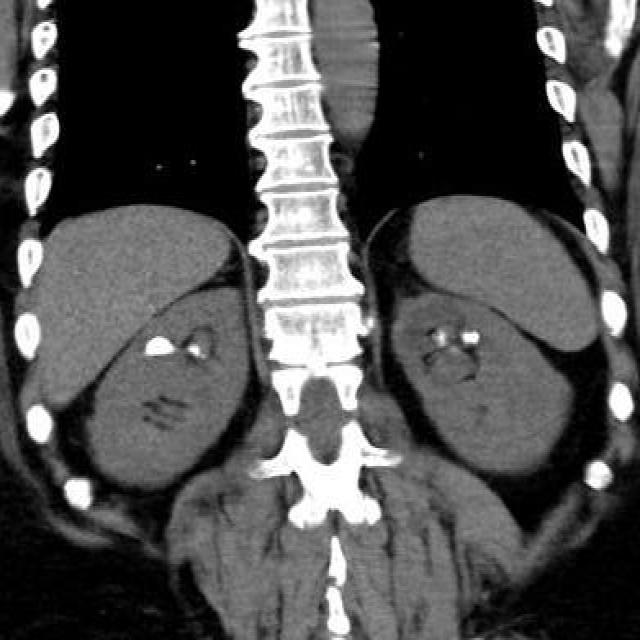Tas_Var: (145, 335, 179, 361), (461, 330, 483, 346), (435, 328, 449, 348), (188, 341, 202, 357), (199, 354, 209, 360)
